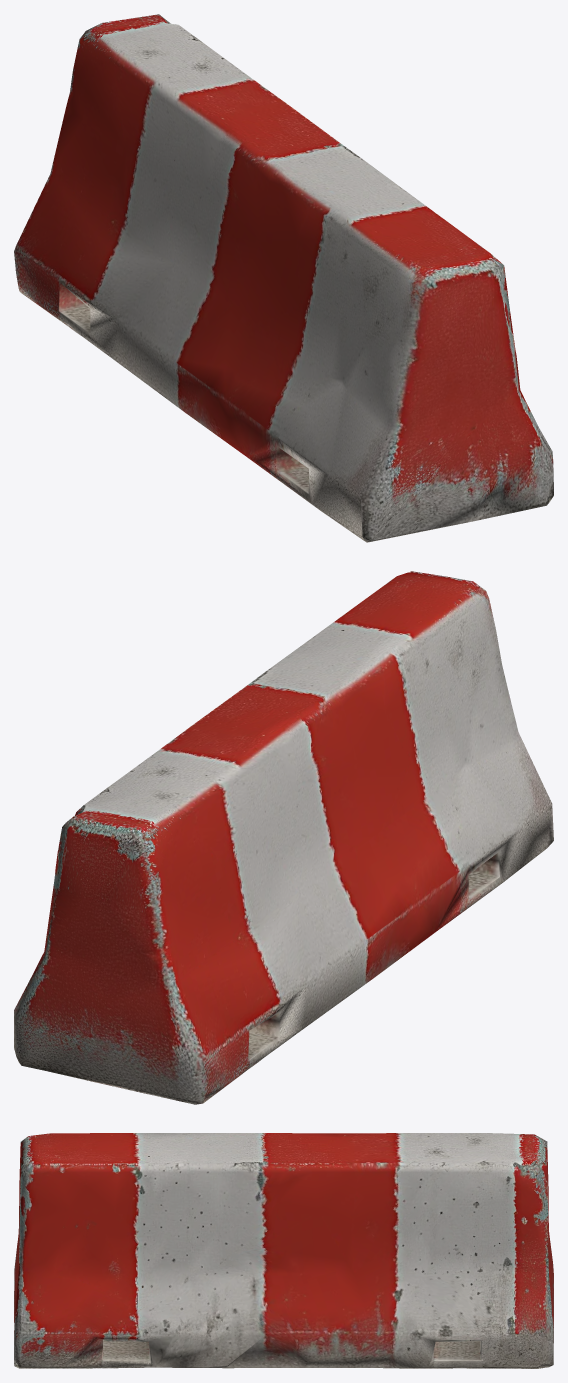
File: teluk-barrier.glb
3 views of the same model, one above another, from view 1: azimuth 30°, elevation 25°; view 2: azimuth 150°, elevation 25°; view 3: azimuth 270°, elevation 25° (orthographic). The views are drawn at different scales.
Parts seen in each view (by area): view 1: teluk-barrier; view 2: teluk-barrier; view 3: teluk-barrier.
Boxes of the visible parts, left/top/right/bottom form: teluk-barrier: left=14, top=14, right=553, bottom=542; teluk-barrier: left=14, top=571, right=553, bottom=1104; teluk-barrier: left=14, top=1133, right=553, bottom=1368.
Size of the model in its own units: 0.6204 by 0.784 by 2.
Materials: 1 (1 with a texture image).
